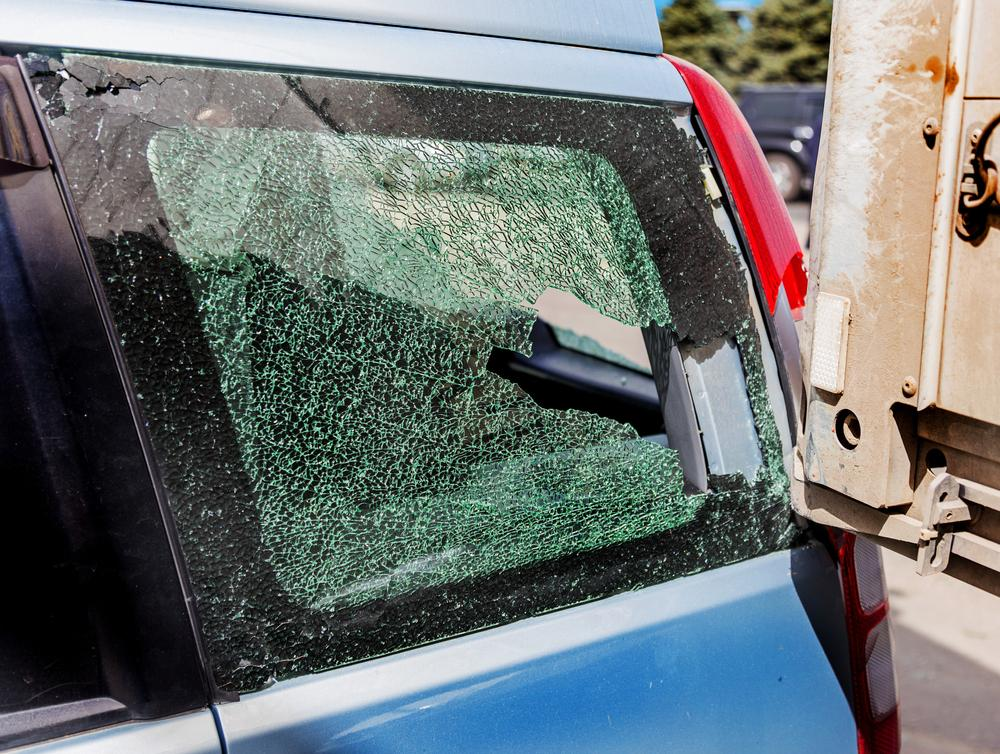glass shatter: (22, 53, 790, 693)
